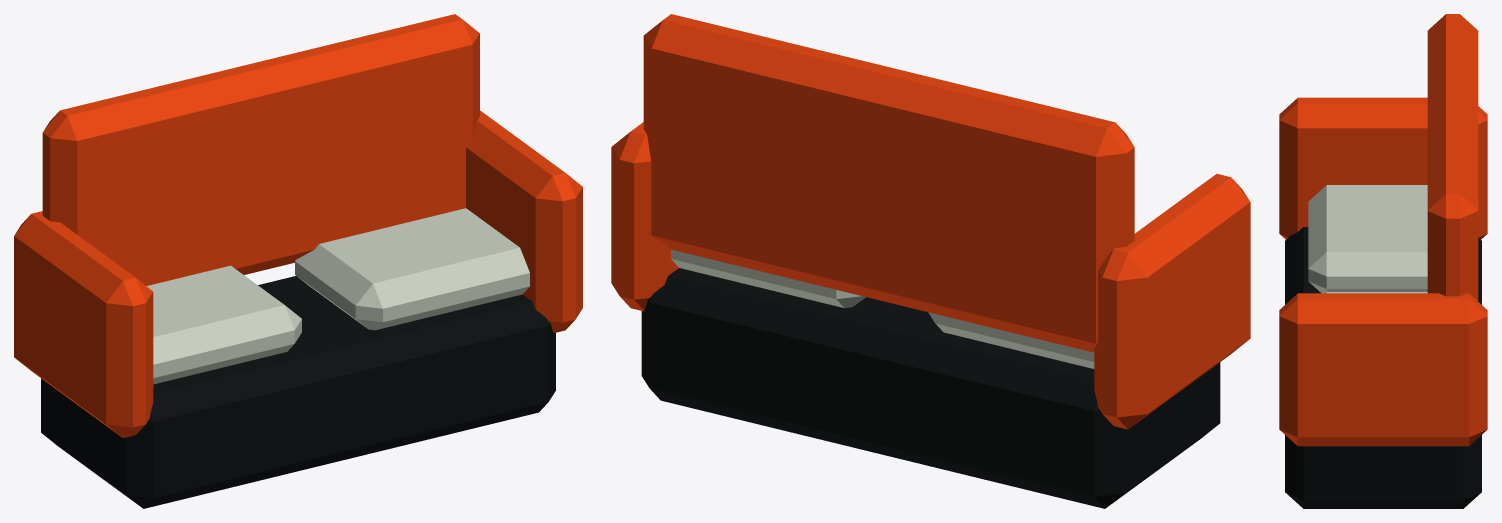
File: SM_MP_Jummt_Sofa.fbx
The picture shows the model from 3 angles, left to right: view 1: azimuth 30°, elevation 25°; view 2: azimuth 150°, elevation 25°; view 3: azimuth 270°, elevation 25°; orthographic projection. The views are drawn at different scales.
Parts seen in each view (by area): view 1: SM_MP_Jummt_Sofa; view 2: SM_MP_Jummt_Sofa; view 3: SM_MP_Jummt_Sofa.
Boxes of the visible parts, x1,y1,x2,y2 form: SM_MP_Jummt_Sofa: [14, 14, 582, 508]; SM_MP_Jummt_Sofa: [611, 14, 1250, 508]; SM_MP_Jummt_Sofa: [1279, 14, 1487, 508].
Size of the model in its own units: 222 by 90 by 150.
1 material, 1 textured.
